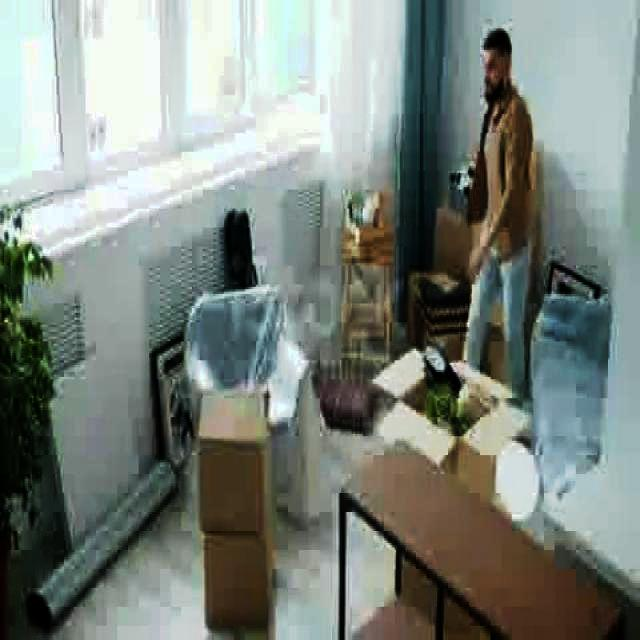Box: (196, 393, 271, 524), (209, 542, 272, 624)
